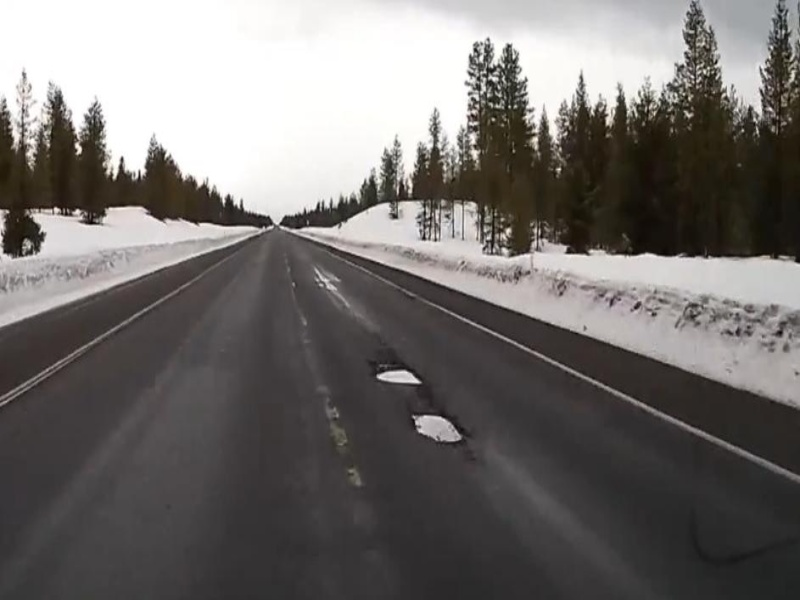pothole: (399, 403, 473, 452), (366, 353, 428, 388)
